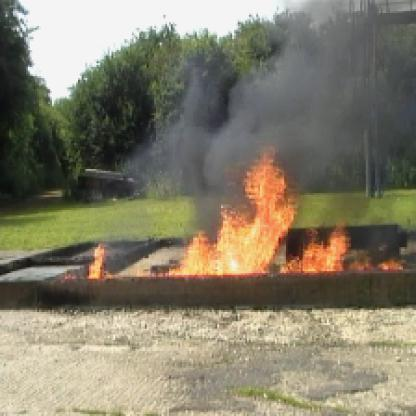Fire: (158, 141, 371, 279), (78, 243, 115, 279)
Smoke: (214, 2, 401, 154)
